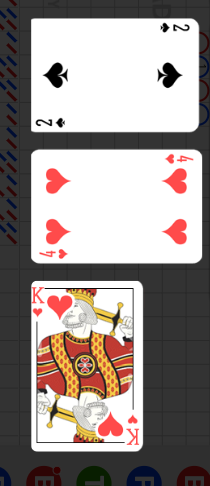2S: (35, 116, 68, 129)
4H: (39, 247, 69, 260)
KH: (125, 413, 141, 447)
